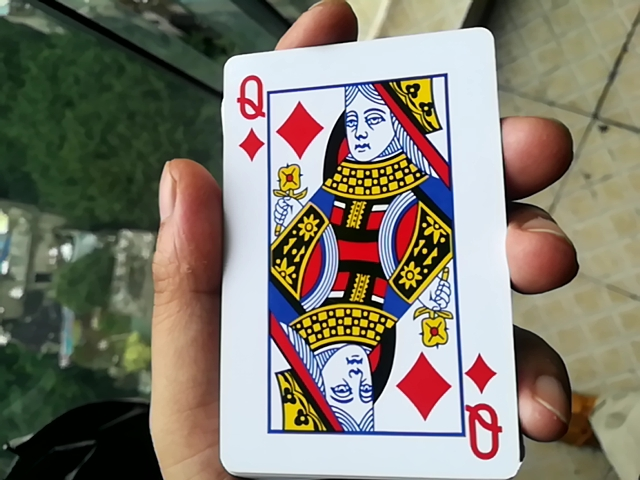fk q: (206, 35, 528, 478)
